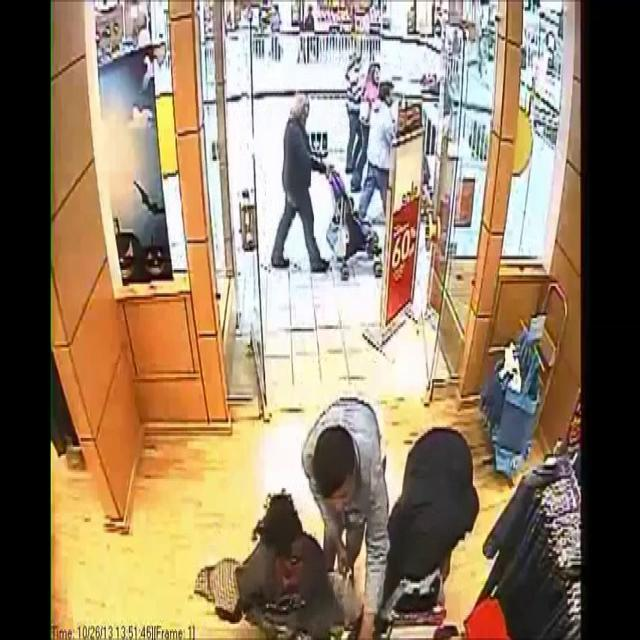normal: (291, 376, 389, 528), (270, 80, 320, 292), (368, 71, 399, 235)
shoplifting: (364, 418, 477, 640), (227, 476, 333, 640)
